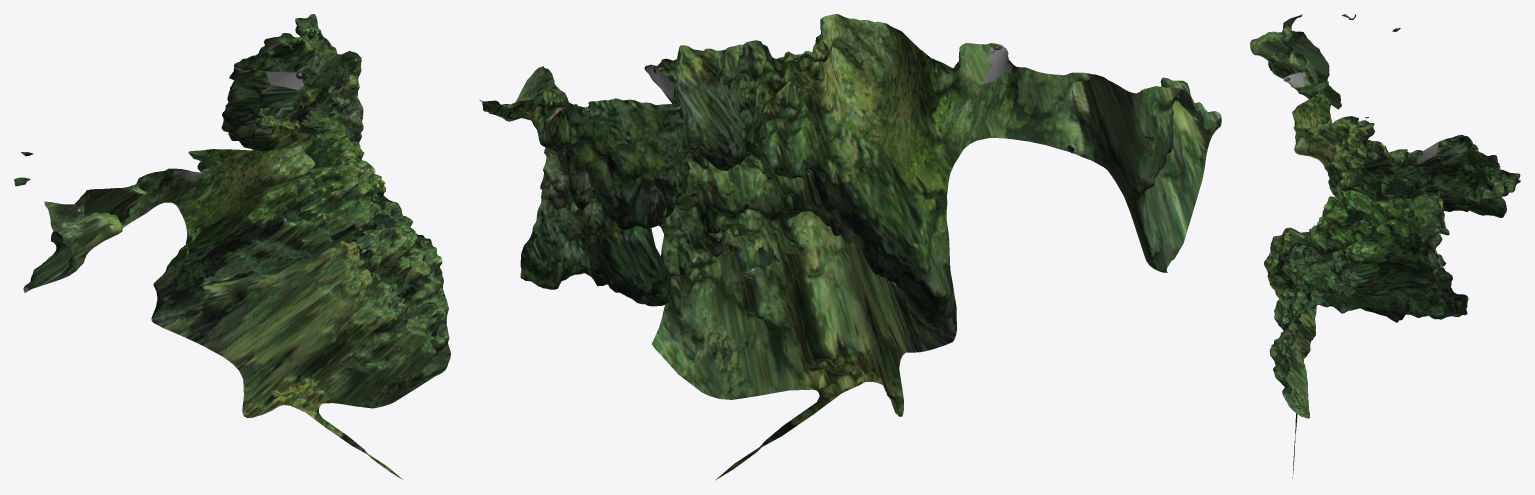
File: Tile_+003_+007.fbx
3 renders of one model, left to right at view 1: azimuth 30°, elevation 25°; view 2: azimuth 150°, elevation 25°; view 3: azimuth 270°, elevation 25°, orthographic. The views are drawn at different scales.
Parts seen in each view (by area): view 1: DefaultName; view 2: DefaultName; view 3: DefaultName.
Part boxes in pixels (x1,y1,x2,y2): DefaultName: (14, 14, 450, 480); DefaultName: (479, 14, 1221, 480); DefaultName: (1250, 14, 1520, 478).
Bounding box in the file's own units: 22.54 × 19.73 × 15.33.
